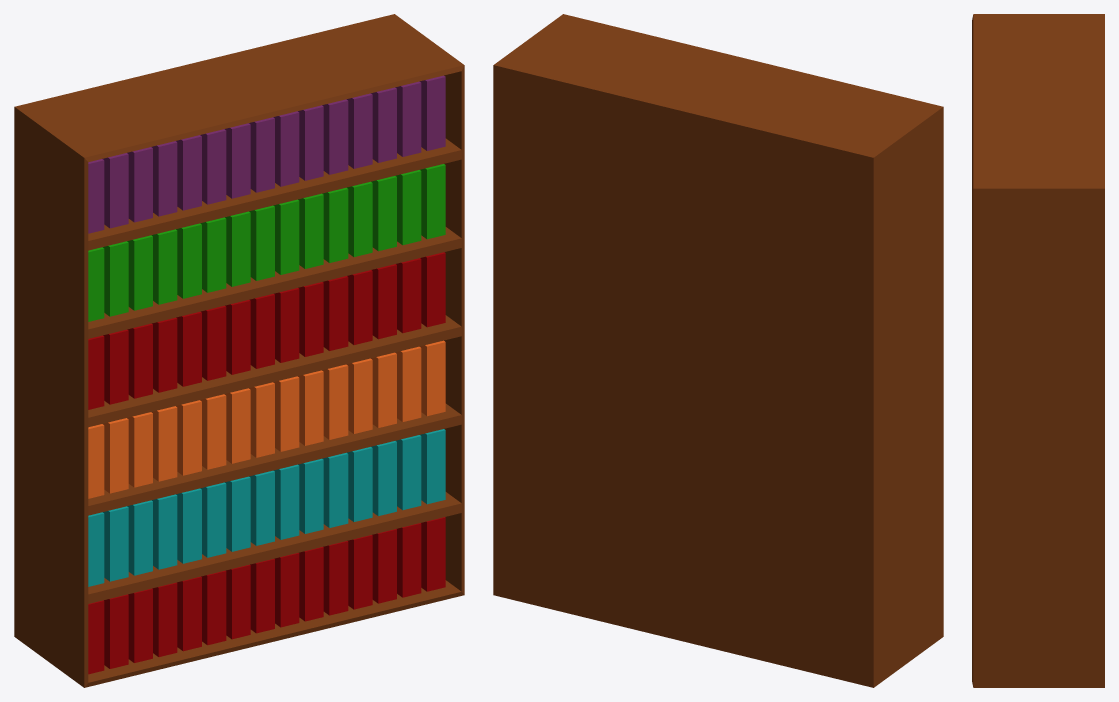
The model's file is Bookshelf.fbx.
3 views of the same model, side by side, from view 1: azimuth 30°, elevation 25°; view 2: azimuth 150°, elevation 25°; view 3: azimuth 270°, elevation 25° (orthographic). The views are drawn at different scales.
Visible parts, largest first — view 1: Cube, Cube.003, Cube.006, Cube.005, Cube.002, Cube.004, Cube.001; view 2: Cube; view 3: Cube.
Boxes of the visible parts, x1=… form: Cube: x1=14, y1=14, x2=464, y2=687; Cube.003: x1=88, y1=340, x2=445, y2=498; Cube.006: x1=88, y1=75, x2=445, y2=233; Cube.005: x1=88, y1=164, x2=445, y2=321; Cube.002: x1=88, y1=429, x2=445, y2=586; Cube.004: x1=88, y1=252, x2=445, y2=409; Cube.001: x1=88, y1=517, x2=445, y2=674; Cube: x1=493, y1=14, x2=943, y2=687; Cube: x1=972, y1=14, x2=1104, y2=687.
Bounding box in the file's own units: 293 × 94.05 × 390.
